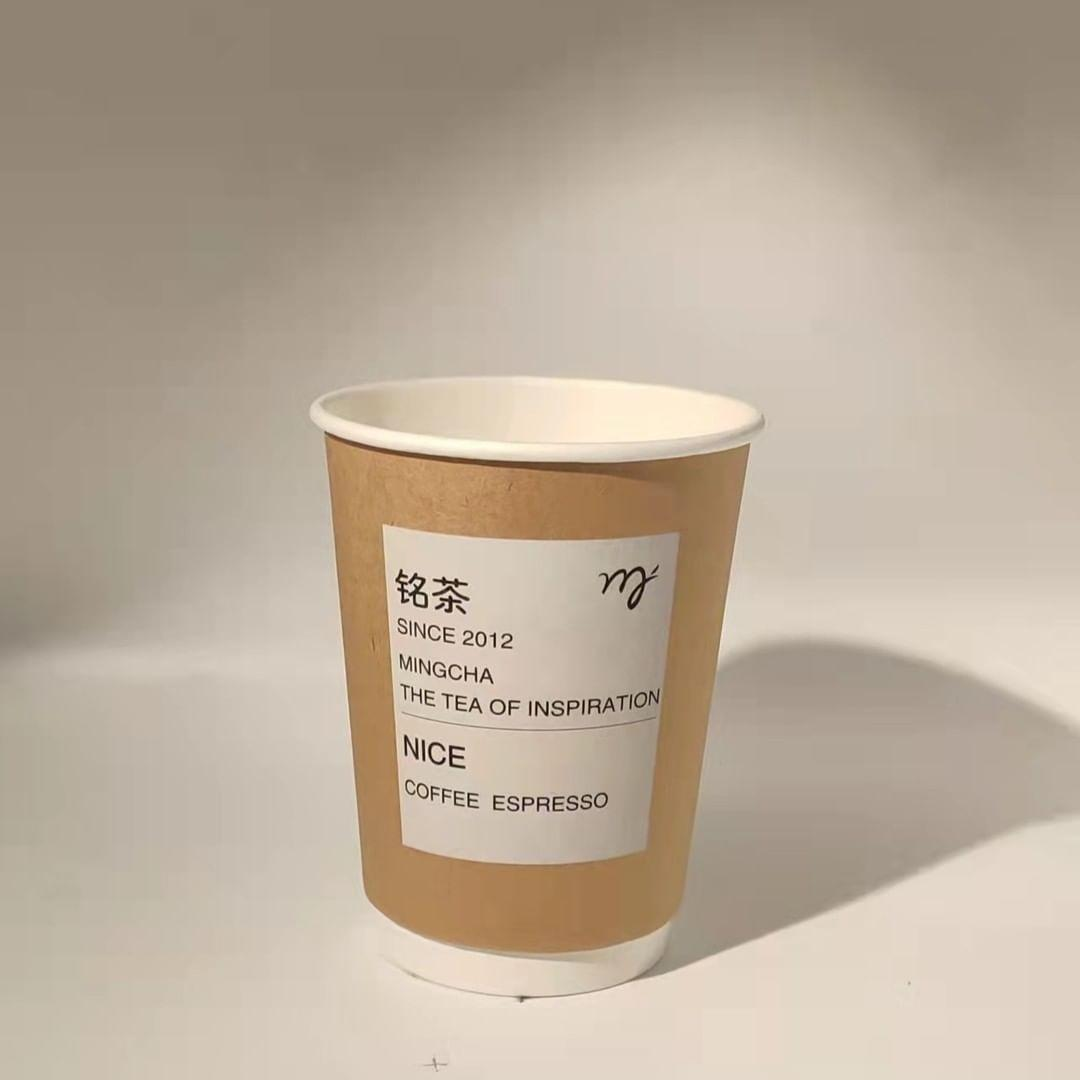cup-disposable: (307, 364, 766, 1000)
